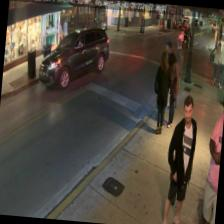person: (161, 93, 200, 224)
